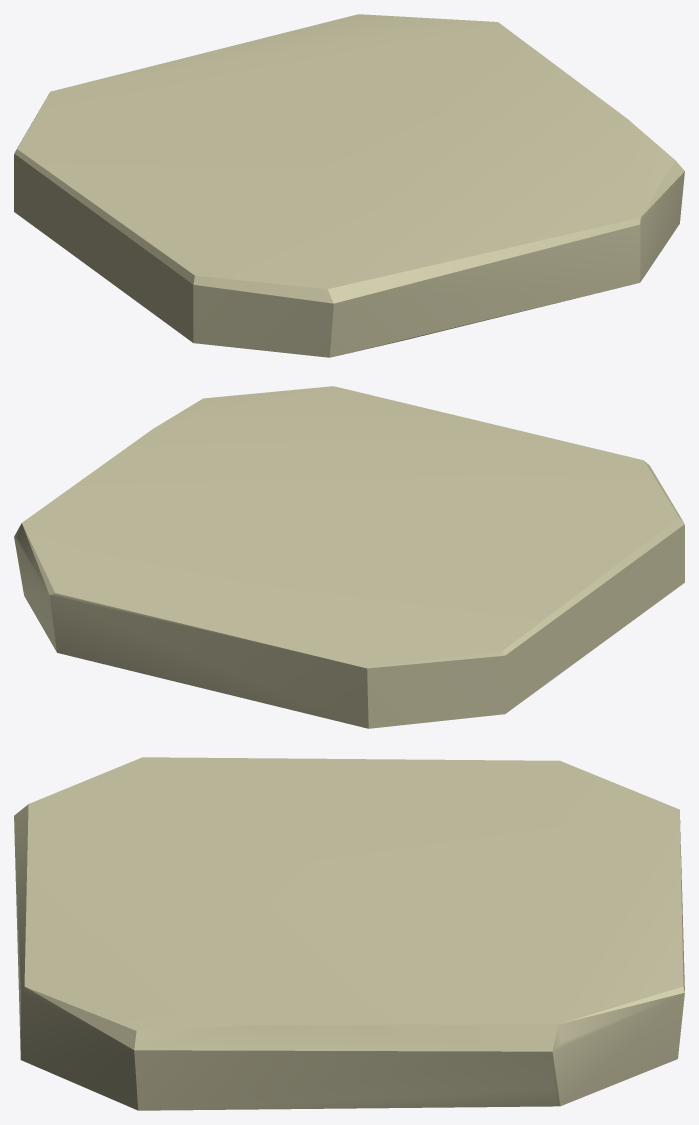
File: Misc_PizzaBox_03.glb
3 renders of one model, top to bottom at view 1: azimuth 30°, elevation 25°; view 2: azimuth 150°, elevation 25°; view 3: azimuth 270°, elevation 25°, orthographic. The views are drawn at different scales.
Parts seen in each view (by area): view 1: Misc_PizzaBox_03.001; view 2: Misc_PizzaBox_03.001; view 3: Misc_PizzaBox_03.001.
Part boxes in pixels (<box>): Misc_PizzaBox_03.001: <box>14,14,684,357</box>; Misc_PizzaBox_03.001: <box>14,386,684,728</box>; Misc_PizzaBox_03.001: <box>14,757,684,1110</box>.
Size of the model in its own units: 0.3531 by 0.0497 by 0.3533.
